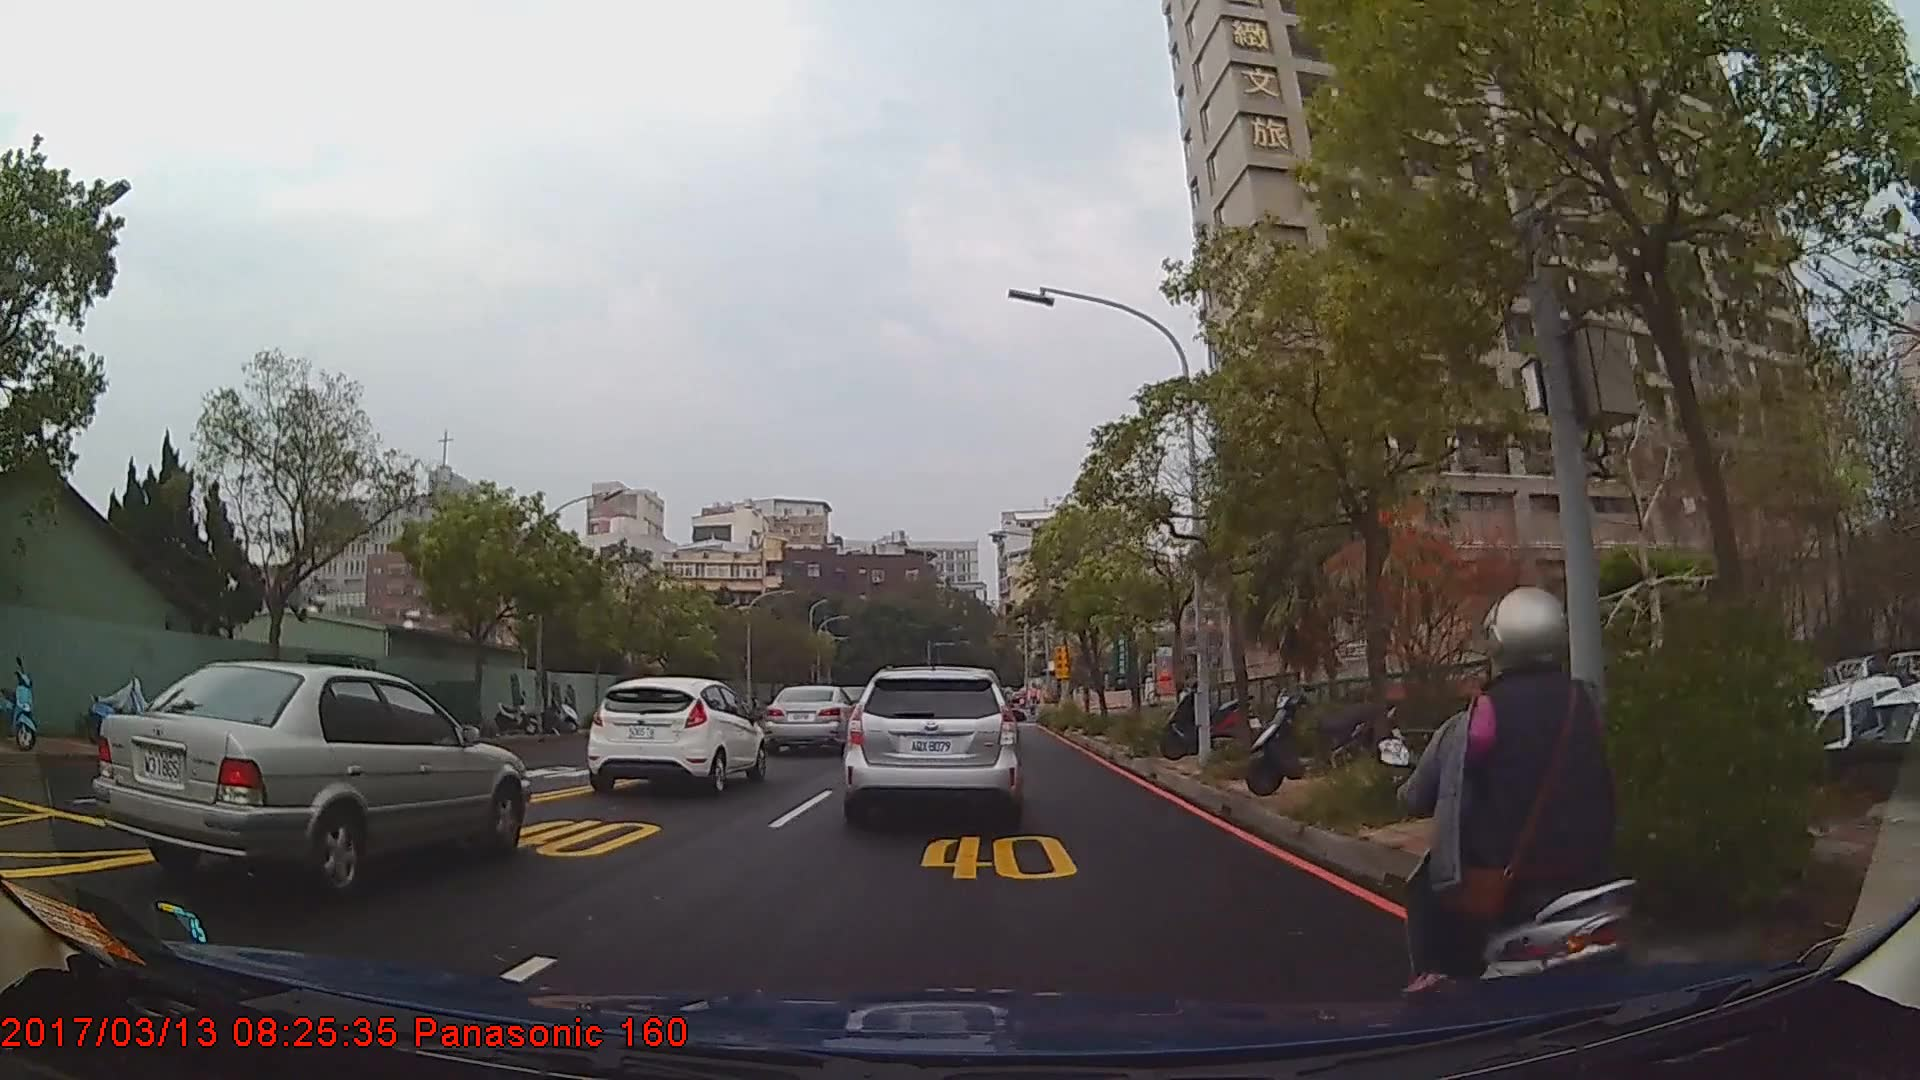rider: (1398, 588, 1641, 1045)
vehicle: (88, 659, 533, 893), (842, 662, 1019, 822), (585, 675, 767, 794), (767, 684, 861, 754)
